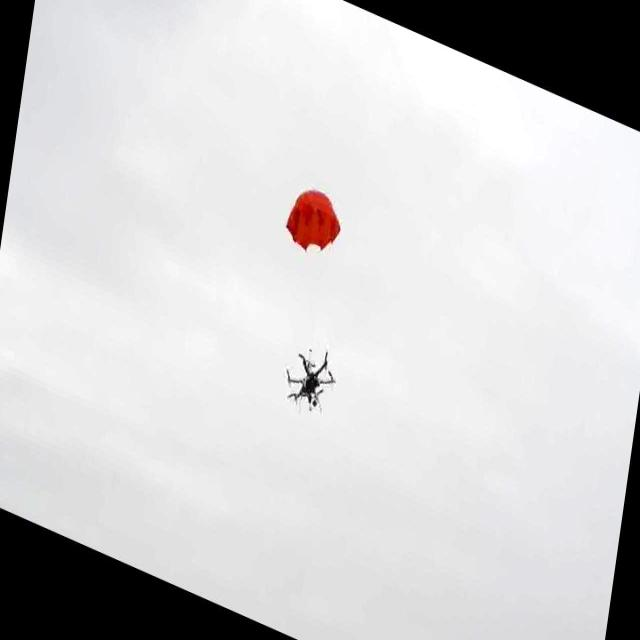drone: (278, 333, 340, 424)
